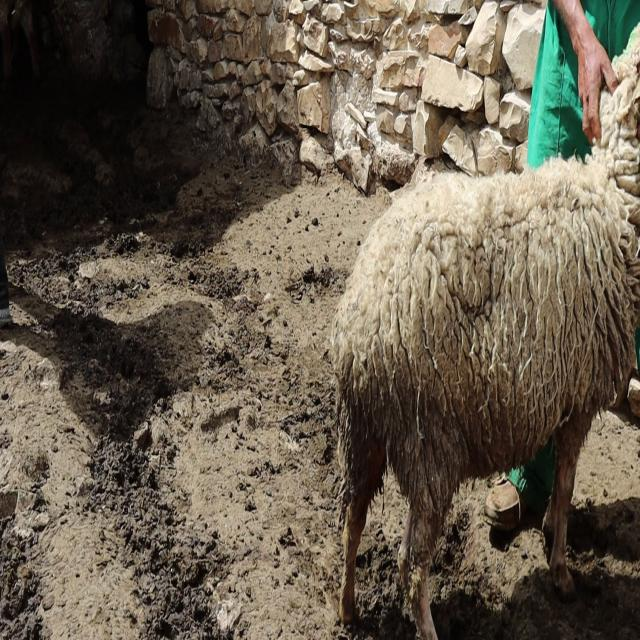Score_3: (331, 25, 640, 639)
